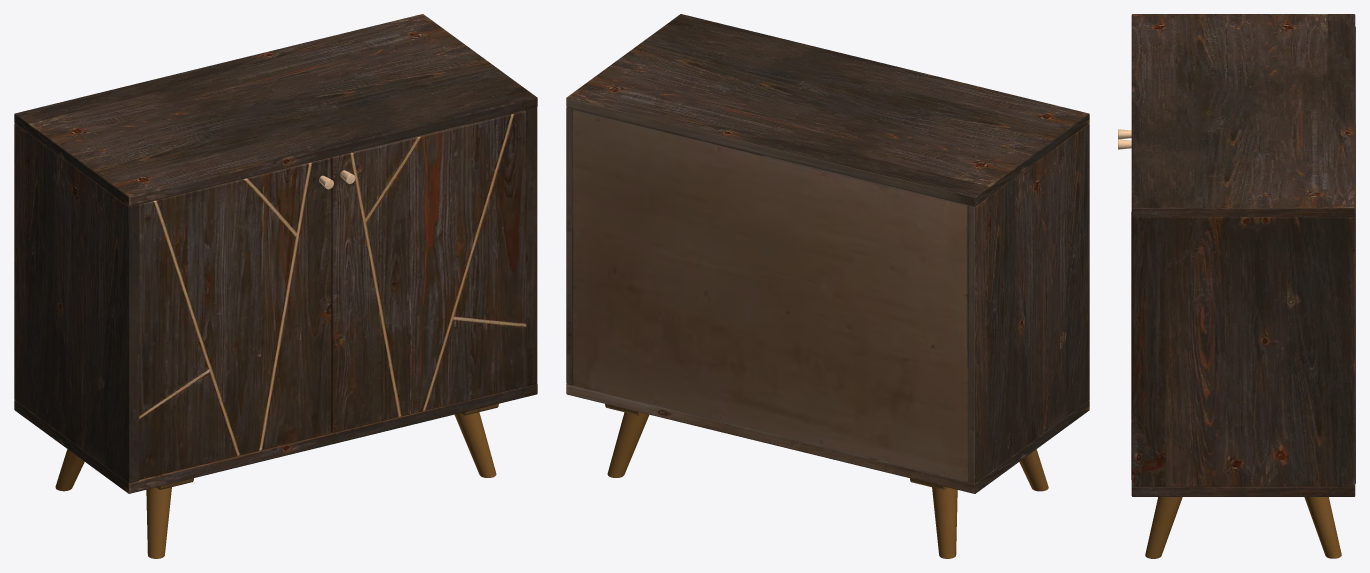
Rendered from B07B77VXN8.glb.
The picture shows the model from 3 angles, left to right: view 1: azimuth 30°, elevation 25°; view 2: azimuth 150°, elevation 25°; view 3: azimuth 270°, elevation 25°; orthographic projection. The views are drawn at different scales.
Visible parts, largest first — view 1: RootNode; view 2: RootNode; view 3: RootNode.
Part boxes in pixels (x1,y1,x2,y2): RootNode: (14, 14, 537, 558); RootNode: (566, 14, 1089, 558); RootNode: (1118, 14, 1355, 558).
Size of the model in its own units: 1.02 by 0.8974 by 0.5288.
1 material, 1 textured.
